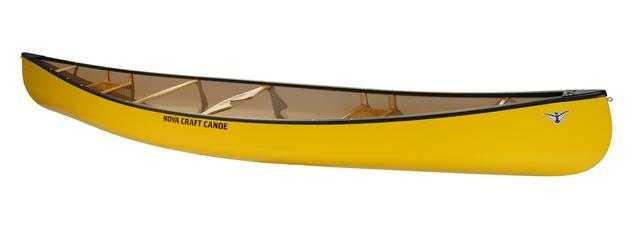kayak: (21, 55, 617, 175)
